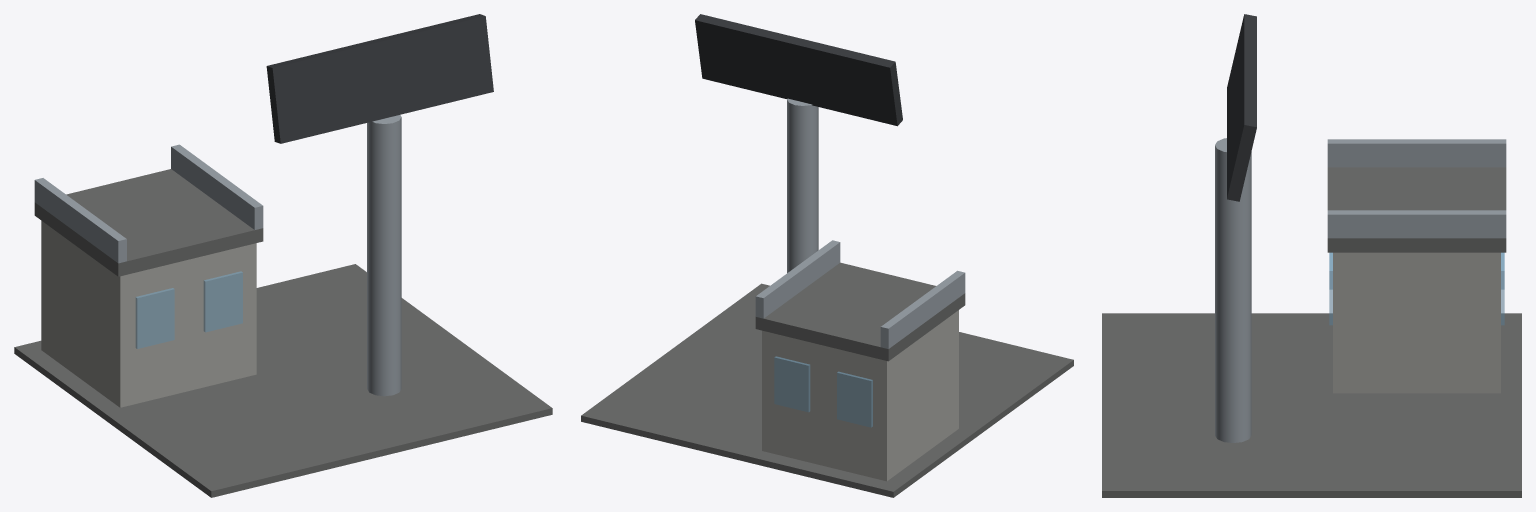
Rendered from bld_special_radar_a07.glb.
3 renders of one model, left to right at view 1: azimuth 30°, elevation 25°; view 2: azimuth 150°, elevation 25°; view 3: azimuth 270°, elevation 25°, orthographic. The views are drawn at different scales.
Visible parts, largest first — view 1: body, antenna; view 2: body, antenna; view 3: body, antenna.
Part boxes in pixels (x1=…): body: x1=14, y1=115, x2=552, y2=497; antenna: x1=266, y1=14, x2=493, y2=143; body: x1=581, y1=98, x2=1073, y2=497; antenna: x1=695, y1=14, x2=902, y2=126; body: x1=1102, y1=138, x2=1521, y2=497; antenna: x1=1227, y1=14, x2=1256, y2=201.
Size of what is drawn, in the model's own units: 8 by 7.84 by 8.
